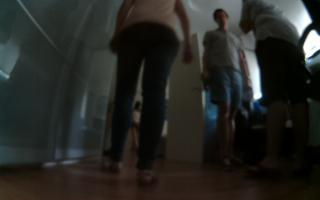person: (98, 1, 196, 187), (237, 1, 313, 181), (197, 4, 252, 171), (124, 96, 143, 157)
